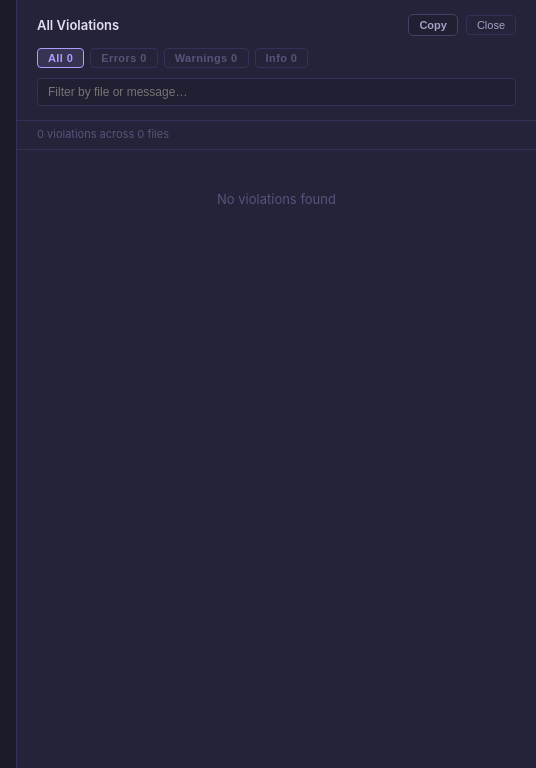
Scenario: ViolationsPanel › shows Copied after copy button clicked
What coordinates should you click on to do the following:
click the button titled "Copy all visible violations"
I would click on:
 (433, 25)
Its box is [408,14,458,36].
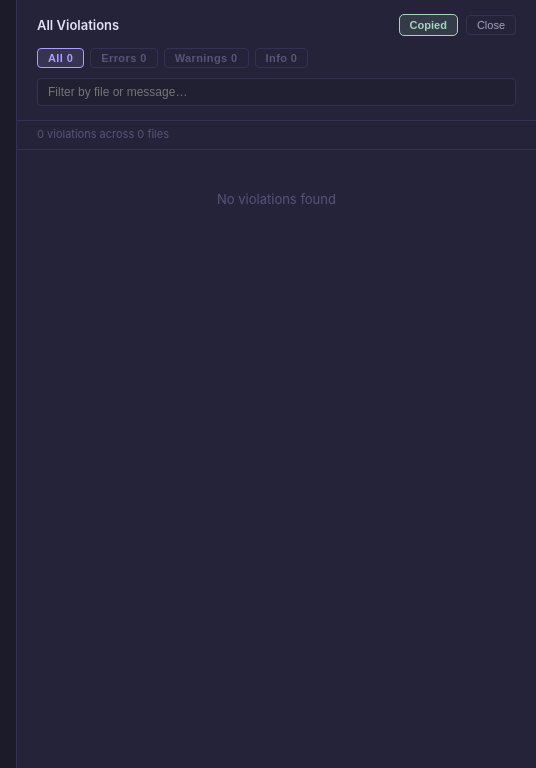
Check: the button "Copied" is shown, box [399,14,458,36]
